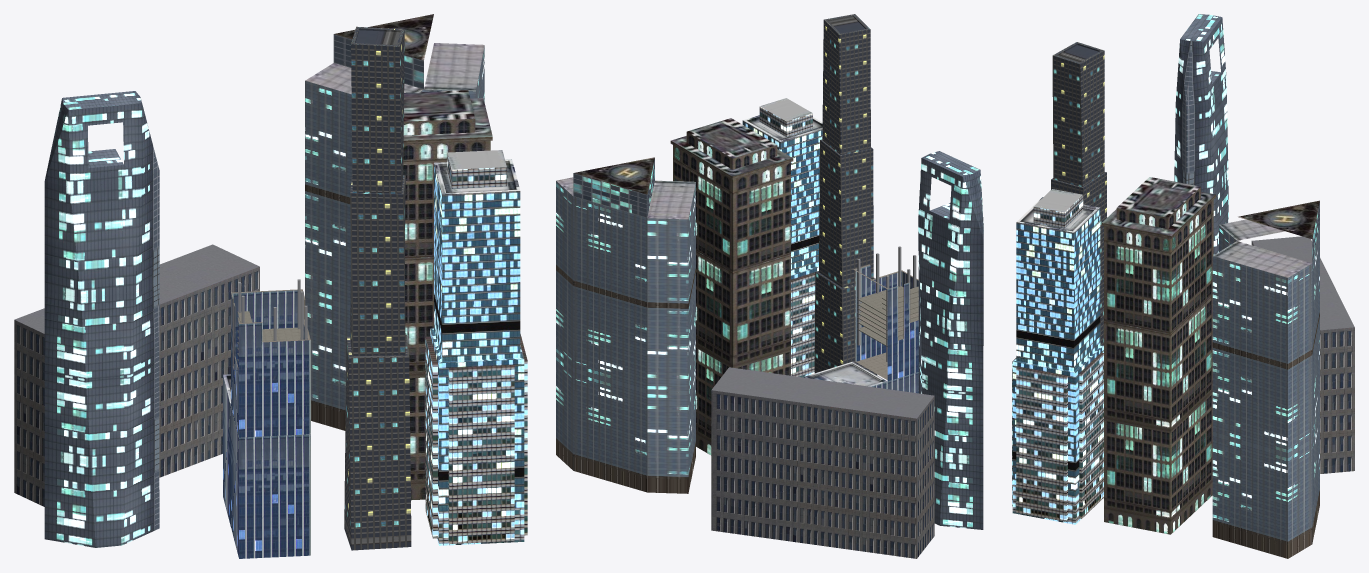
The model's file is land004.gltf.
The picture shows the model from 3 angles, left to right: view 1: azimuth 30°, elevation 25°; view 2: azimuth 150°, elevation 25°; view 3: azimuth 270°, elevation 25°; orthographic projection. The views are drawn at different scales.
Parts seen in each view (by area): view 1: node_City_Lowpoly542 (1)_-199126, node_City_Lowpoly526 (1)_-199758, node_City_Lowpoly519 (1)_-202112, node_City_Lowpoly432 (1)_-199336, node_City_Lowpoly039 (1)_-200550, node_City_Lowpoly543 (1)_-198724, node_City_Lowpoly536 (1)_-199554; view 2: node_City_Lowpoly543 (1)_-198724, node_City_Lowpoly039 (1)_-200550, node_City_Lowpoly536 (1)_-199554, node_City_Lowpoly542 (1)_-199126, node_City_Lowpoly519 (1)_-202112, node_City_Lowpoly526 (1)_-199758, node_City_Lowpoly432 (1)_-199336; view 3: node_City_Lowpoly536 (1)_-199554, node_City_Lowpoly543 (1)_-198724, node_City_Lowpoly526 (1)_-199758, node_City_Lowpoly542 (1)_-199126, node_City_Lowpoly519 (1)_-202112, node_City_Lowpoly039 (1)_-200550.
Boxes of the visible parts, x1,y1,x2,y2 form: node_City_Lowpoly542 (1)_-199126: (44, 91, 159, 547); node_City_Lowpoly526 (1)_-199758: (425, 150, 527, 545); node_City_Lowpoly519 (1)_-202112: (344, 26, 411, 550); node_City_Lowpoly432 (1)_-199336: (223, 279, 310, 558); node_City_Lowpoly039 (1)_-200550: (14, 244, 259, 506); node_City_Lowpoly543 (1)_-198724: (305, 14, 484, 430); node_City_Lowpoly536 (1)_-199554: (403, 90, 492, 500); node_City_Lowpoly543 (1)_-198724: (556, 157, 695, 493); node_City_Lowpoly039 (1)_-200550: (711, 367, 934, 558); node_City_Lowpoly536 (1)_-199554: (670, 118, 793, 455); node_City_Lowpoly542 (1)_-199126: (918, 151, 983, 529); node_City_Lowpoly519 (1)_-202112: (814, 14, 877, 374); node_City_Lowpoly526 (1)_-199758: (742, 98, 822, 377); node_City_Lowpoly432 (1)_-199336: (804, 246, 918, 393); node_City_Lowpoly536 (1)_-199554: (1101, 177, 1215, 534); node_City_Lowpoly543 (1)_-198724: (1212, 200, 1319, 558); node_City_Lowpoly526 (1)_-199758: (1012, 189, 1103, 524); node_City_Lowpoly542 (1)_-199126: (1174, 14, 1228, 254); node_City_Lowpoly519 (1)_-202112: (1051, 42, 1106, 345); node_City_Lowpoly039 (1)_-200550: (1251, 236, 1354, 473).
Bounding box in the file's own units: 273 × 271 × 202.
